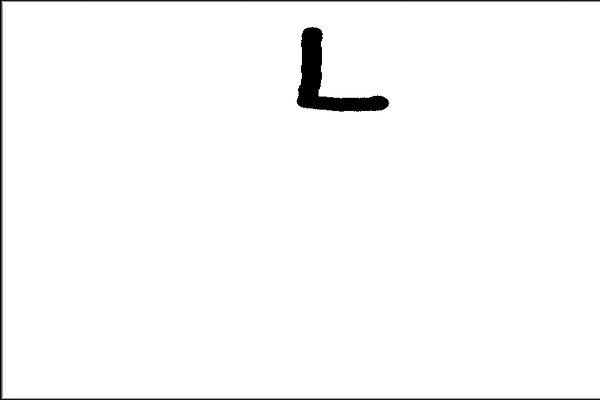L: (288, 20, 394, 117)
